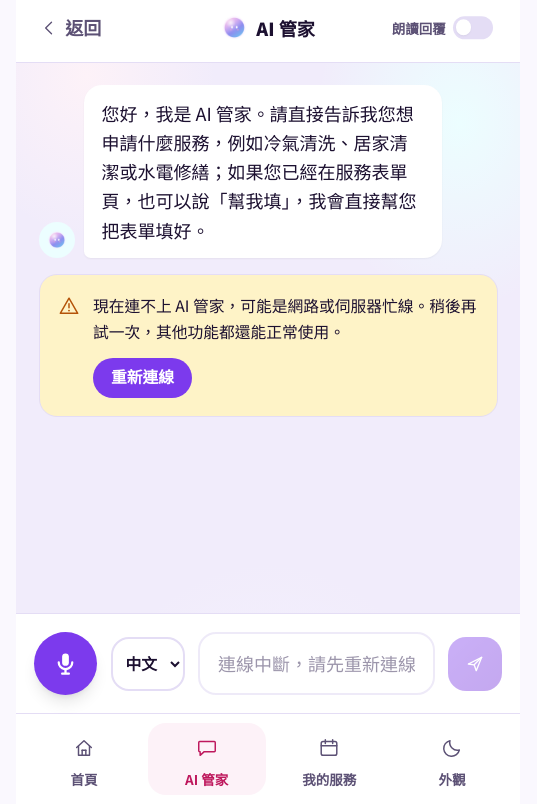
Test: ButlerPanel 連線失敗 › recovers through 重新連線 once the backend is back
Expected: the message "現在連不上 AI 管家，可能是網路或伺服器忙線。稍後再試一次，其他功能都還能正常使用。 重新連線" is shown, [38,274,498,417]
Step 1. Click the button "重新連線" → (142, 378), box [93,358,192,398]
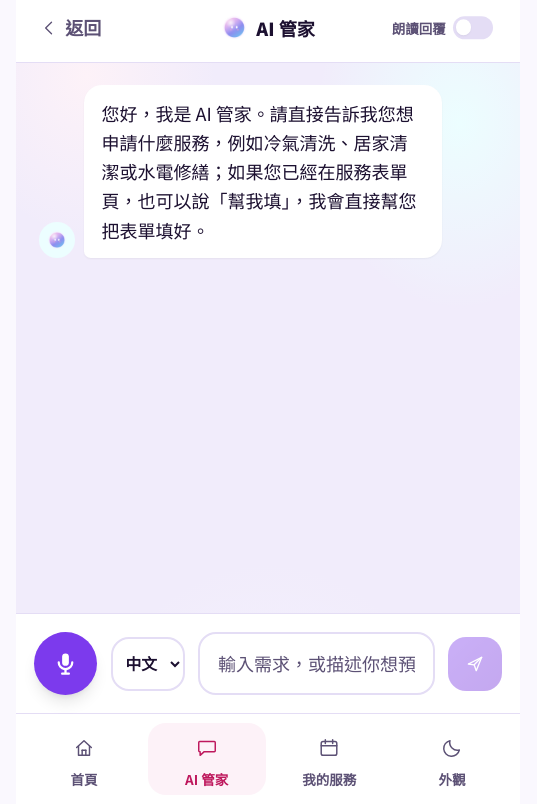
Expected: the message "現在連不上 AI 管家，可能是網路或伺服器忙線。稍後再試一次，其他功能都還能正常使用。 重新連線" is gone
Expected: the field labelled "輸入需求" is enabled, [198,632,434,695]
